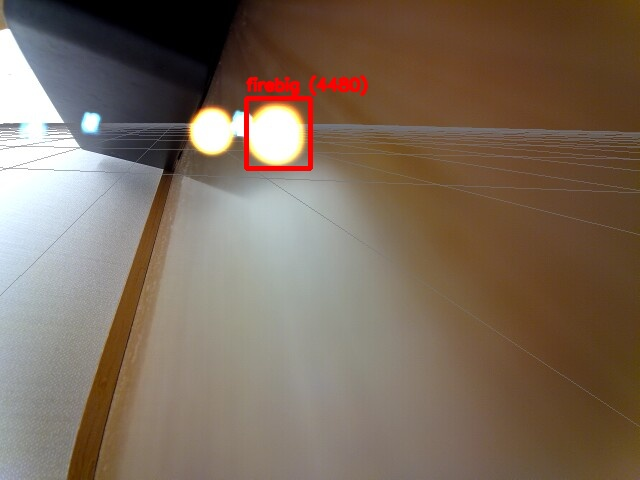firebig: (246, 98, 310, 168)
